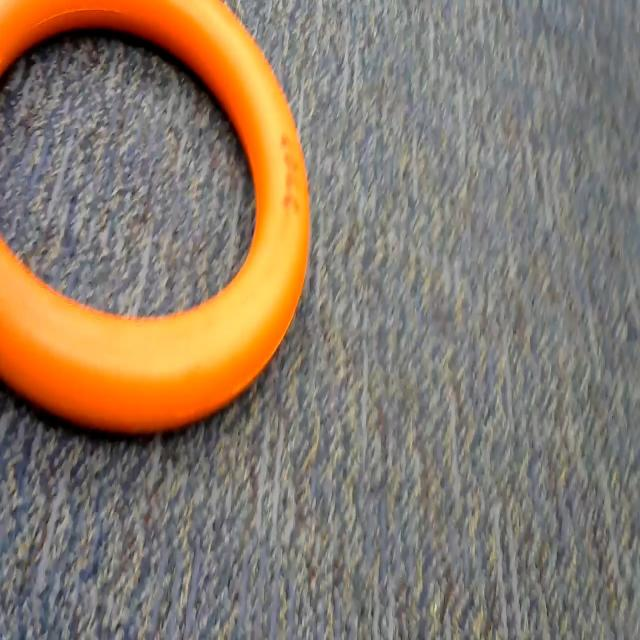note: (0, 0, 317, 451)
